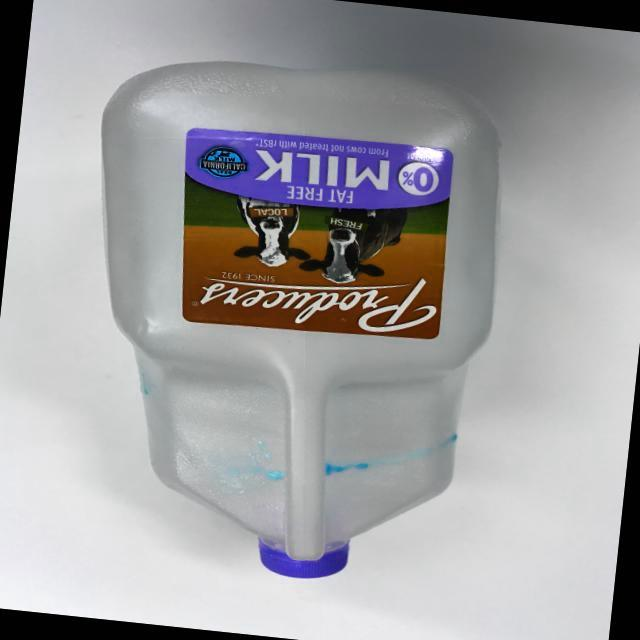plastic: (0, 14, 548, 623)
